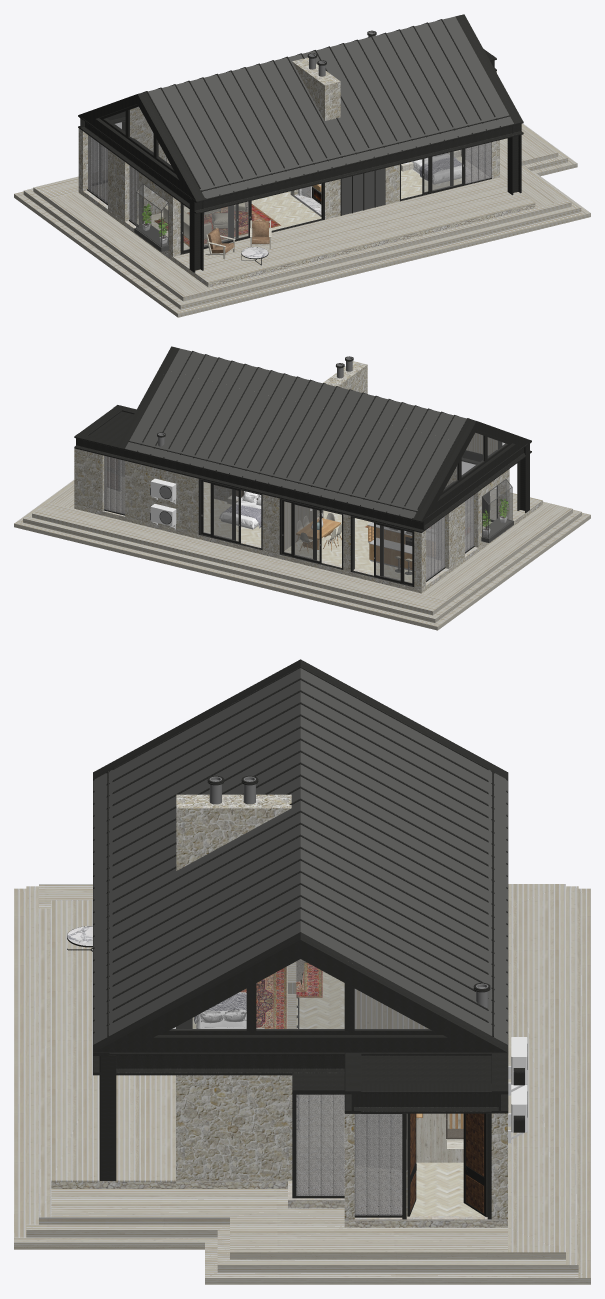
Rendered from room7.glb.
3 renders of one model, top to bottom at view 1: azimuth 30°, elevation 25°; view 2: azimuth 150°, elevation 25°; view 3: azimuth 270°, elevation 25°, orthographic. The views are drawn at different scales.
Parts seen in each view (by area): view 1: Material2.006, Material2.001, Material2.008, Material2, Material2.009, Material3, Material2.022, Material2.004, Material2.003, Material2.025, Material3.008, Material2.002 (+3 smaller); view 2: Material2.006, Material2.001, Material2.008, Material2, Material2.009, Material2.004, Material3, Material2.022, Material2.003, Material2.002, Material2.017, Material2.005 (+2 smaller); view 3: Material2.001, Material2.006, Material2.008, Material2, Material3, Material2.022, Material2.009, Material2.004, Material2.003, Material2.025, Material2.002, Material3.001 (+3 smaller).
Boxes of the visible parts, x1,y1,x2,y2 form: Material2.006: [114, 16, 513, 251]; Material2.001: [14, 123, 590, 317]; Material2.008: [78, 14, 523, 272]; Material2: [78, 57, 499, 256]; Material2.009: [105, 107, 461, 249]; Material3: [88, 135, 491, 224]; Material2.022: [88, 135, 491, 223]; Material2.004: [137, 156, 461, 249]; Material2.003: [78, 189, 535, 287]; Material2.025: [154, 204, 280, 246]; Material3.008: [208, 220, 269, 253]; Material2.002: [142, 153, 461, 243]; Material2.006: [115, 348, 513, 586]; Material2.001: [14, 433, 590, 630]; Material2.008: [74, 346, 531, 586]; Material2: [74, 361, 509, 588]; Material2.009: [203, 433, 512, 582]; Material2.004: [203, 482, 491, 582]; Material3: [104, 456, 473, 580]; Material2.022: [104, 456, 473, 580]; Material2.003: [74, 501, 542, 593]; Material2.002: [150, 442, 507, 535]; Material2.017: [296, 517, 412, 569]; Material2.005: [74, 504, 490, 589]; Material2.001: [14, 884, 590, 1284]; Material2.006: [93, 668, 507, 1206]; Material2.008: [67, 659, 527, 1219]; Material2: [176, 794, 507, 1219]; Material3: [296, 1094, 402, 1215]; Material2.022: [296, 1095, 401, 1214]; Material2.009: [171, 959, 429, 1029]; Material2.004: [192, 966, 483, 1215]; Material2.003: [51, 1182, 507, 1227]; Material2.025: [241, 962, 322, 1028]; Material2.002: [173, 992, 527, 1143]; Material3.001: [416, 1113, 463, 1162].
Bounding box in the file's own units: 873 × 302 × 547.
51 materials, 50 textured.
